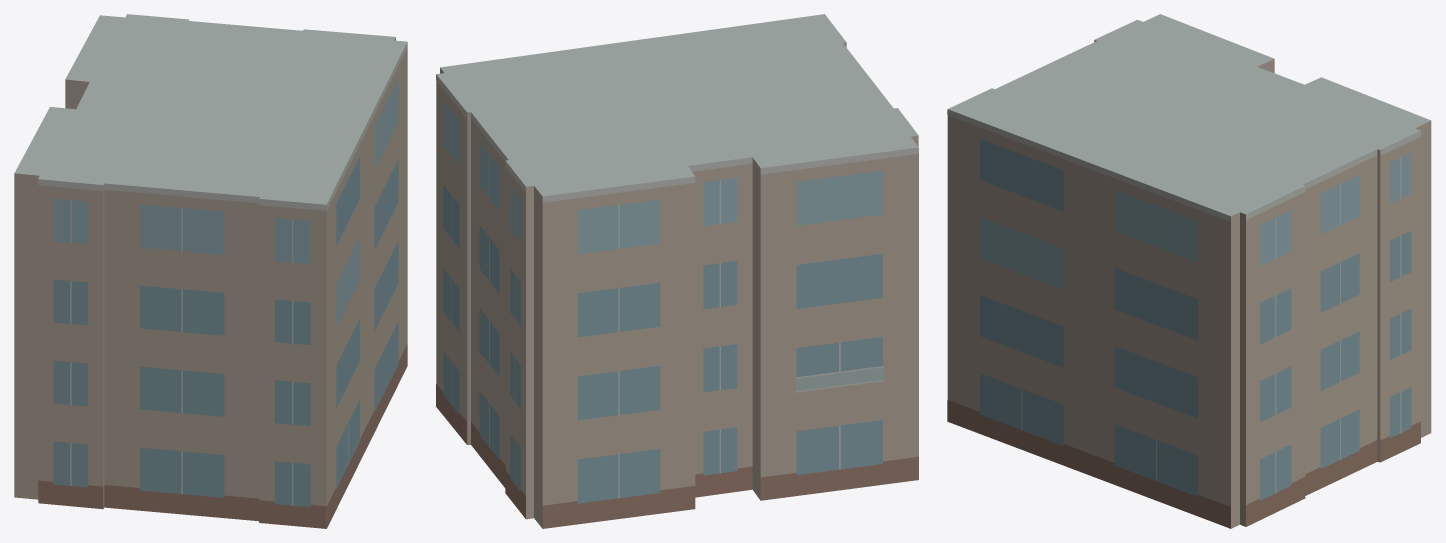
Rendered from survey-upis-32524269.glb.
3 renders of one model, left to right at view 1: azimuth 30°, elevation 25°; view 2: azimuth 150°, elevation 25°; view 3: azimuth 270°, elevation 25°, orthographic. The views are drawn at different scales.
Visible parts, largest first — view 1: survey-upis-32524269.tmp; view 2: survey-upis-32524269.tmp; view 3: survey-upis-32524269.tmp.
Boxes of the visible parts, bbox=[...] form: survey-upis-32524269.tmp: bbox=[14, 14, 407, 528]; survey-upis-32524269.tmp: bbox=[436, 14, 918, 528]; survey-upis-32524269.tmp: bbox=[947, 14, 1431, 528].
Size of the model in its own units: 17.78 by 12.8 by 17.97.
